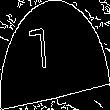L_S: (44, 28, 66, 82)
